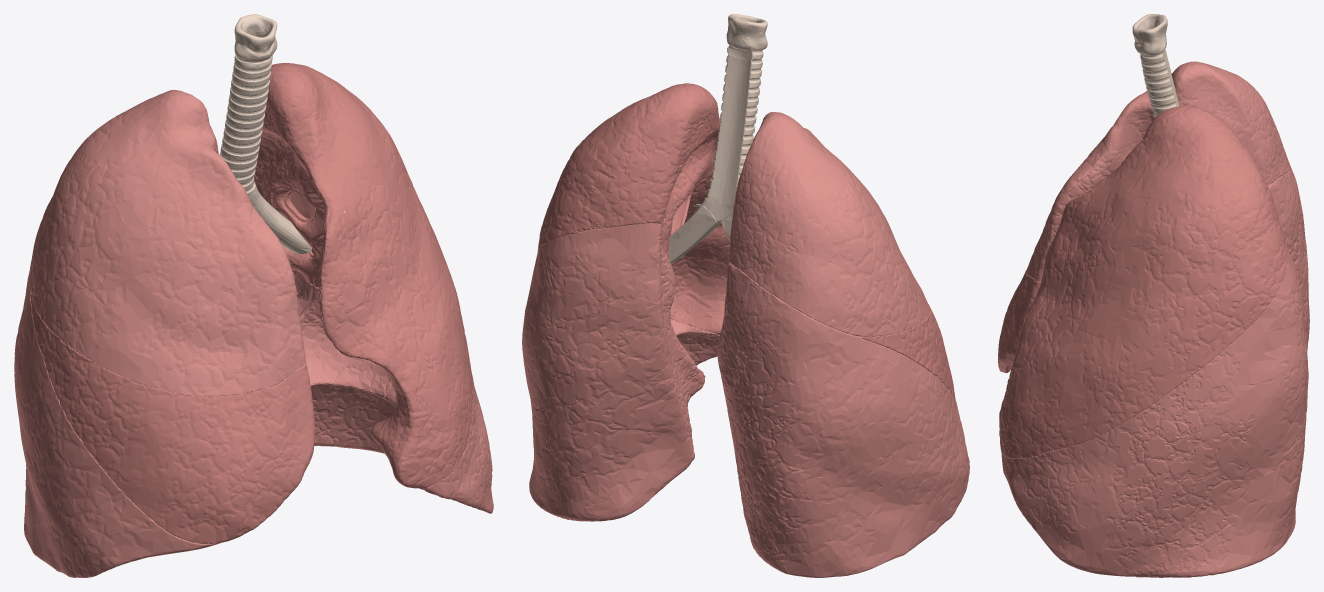
3 views of the same model, side by side, from view 1: azimuth 30°, elevation 25°; view 2: azimuth 150°, elevation 25°; view 3: azimuth 270°, elevation 25° (orthographic). The views are drawn at different scales.
Parts seen in each view (by area): view 1: right_upper_lobe, left_upper_lobe, right_middle_lobe, right_lower_lobe, left_lower_lobe, trachea, bronchi; view 2: right_lower_lobe, left_lower_lobe, right_upper_lobe, left_upper_lobe, trachea, right_middle_lobe, bronchi; view 3: left_upper_lobe, left_lower_lobe, right_upper_lobe, trachea, right_lower_lobe, right_middle_lobe.
Boxes of the visible parts, x1,y1,x2,y2 form: right_upper_lobe: (29, 89, 305, 396); left_upper_lobe: (254, 63, 472, 488); right_middle_lobe: (30, 288, 315, 544); right_lower_lobe: (14, 266, 220, 577); left_lower_lobe: (290, 263, 493, 513); trachea: (219, 14, 277, 198); bronchi: (250, 187, 345, 254); right_lower_lobe: (717, 262, 969, 577); left_lower_lobe: (522, 223, 719, 521); right_upper_lobe: (728, 112, 930, 336); left_upper_lobe: (537, 83, 729, 334); trachea: (702, 14, 767, 222); right_middle_lobe: (860, 304, 955, 399); bronchi: (668, 203, 833, 321); left_upper_lobe: (999, 105, 1287, 458); left_lower_lobe: (1001, 244, 1308, 577); right_upper_lobe: (1026, 61, 1291, 281); trachea: (1132, 14, 1179, 117); right_lower_lobe: (1268, 168, 1309, 350); right_middle_lobe: (998, 270, 1041, 372).
Bounding box in the file's own units: 253 × 302 × 181.
